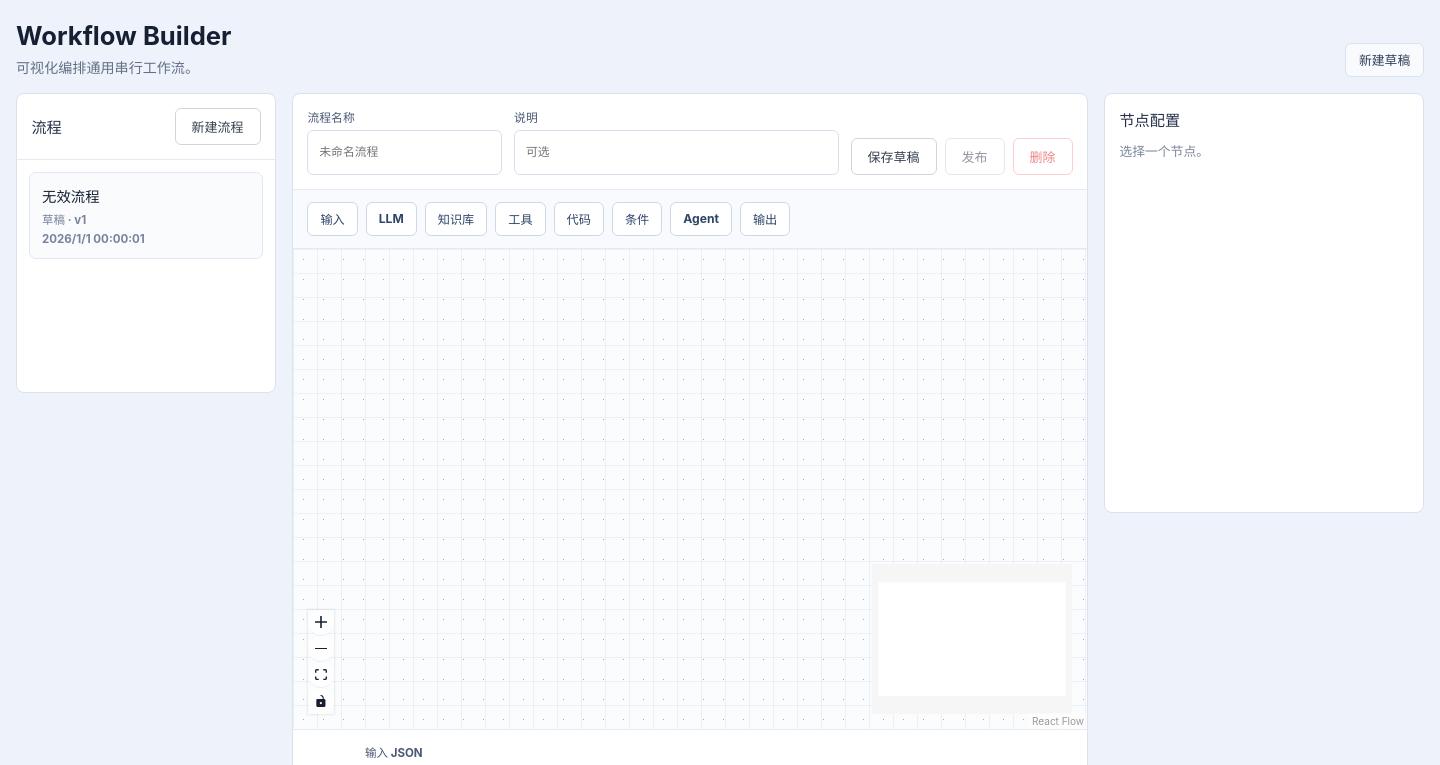
WorkflowBuilder › shows local validation errors before saving
This screenshot has width=1440, height=765.
Click the button "无效流程 草稿 · v1 2026/1/1 00:00:01". click: [146, 216]
box: [29,172,263,259]
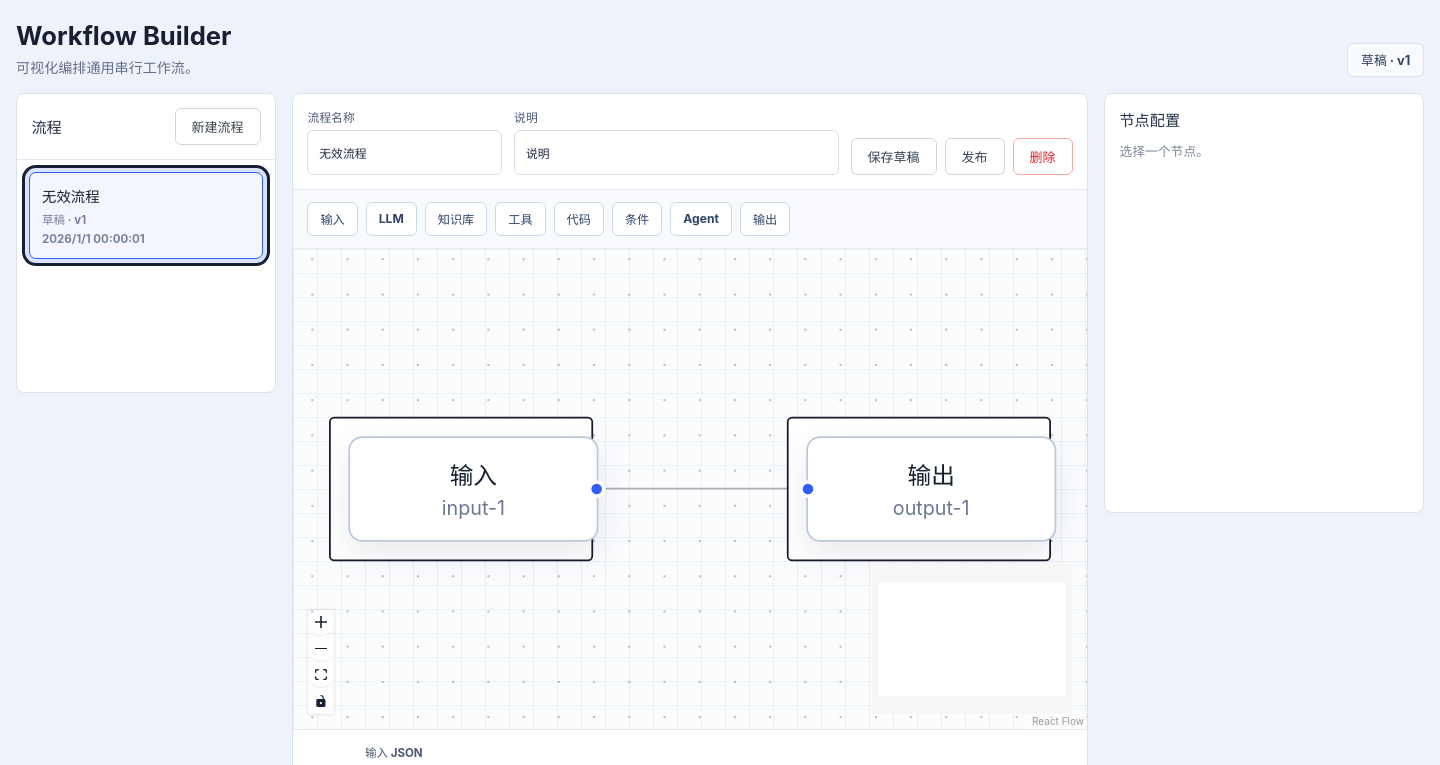
Click the button "保存草稿". click: [894, 156]
box: [851,138,937,175]
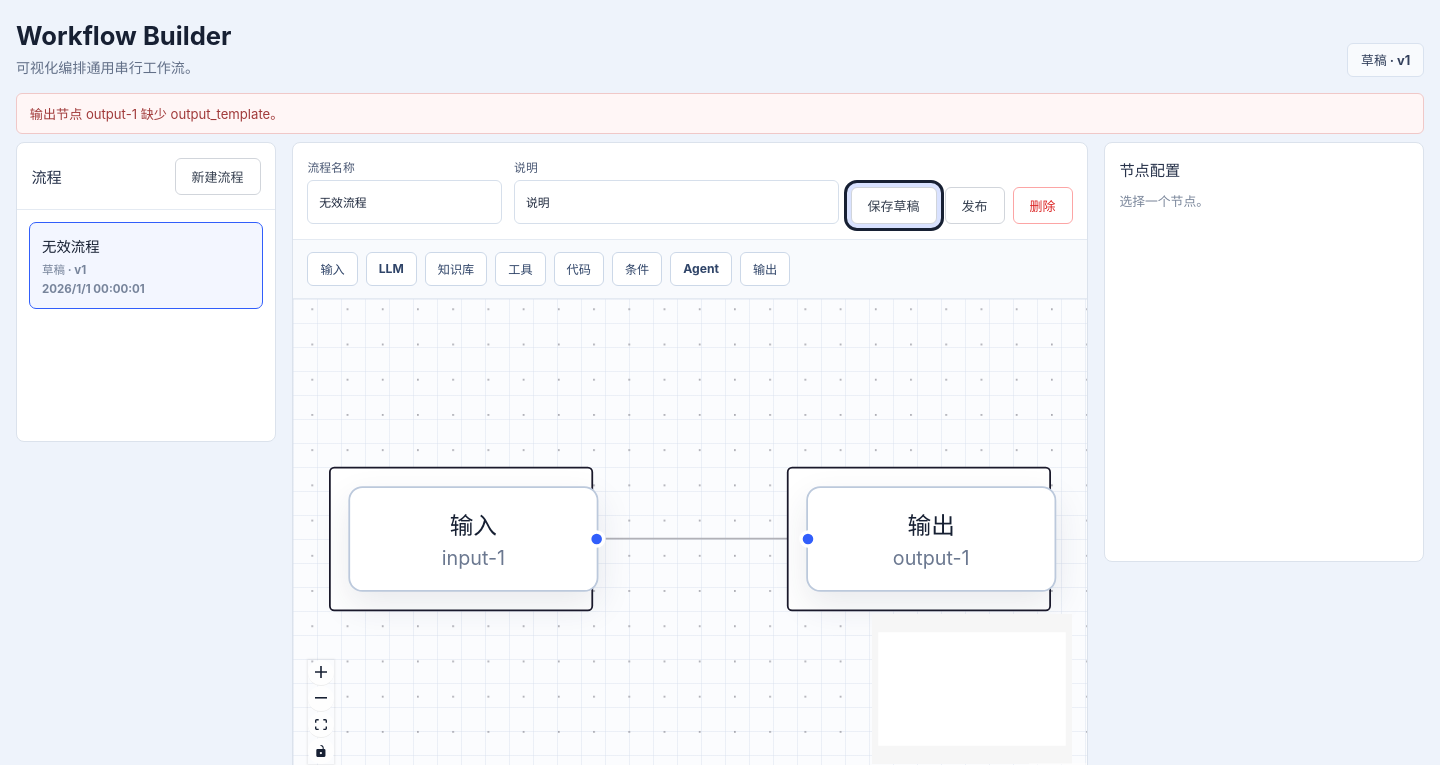
Check: the text "输出节点 output-1 缺少 output_template。" is shown, box [16,93,1424,134]
